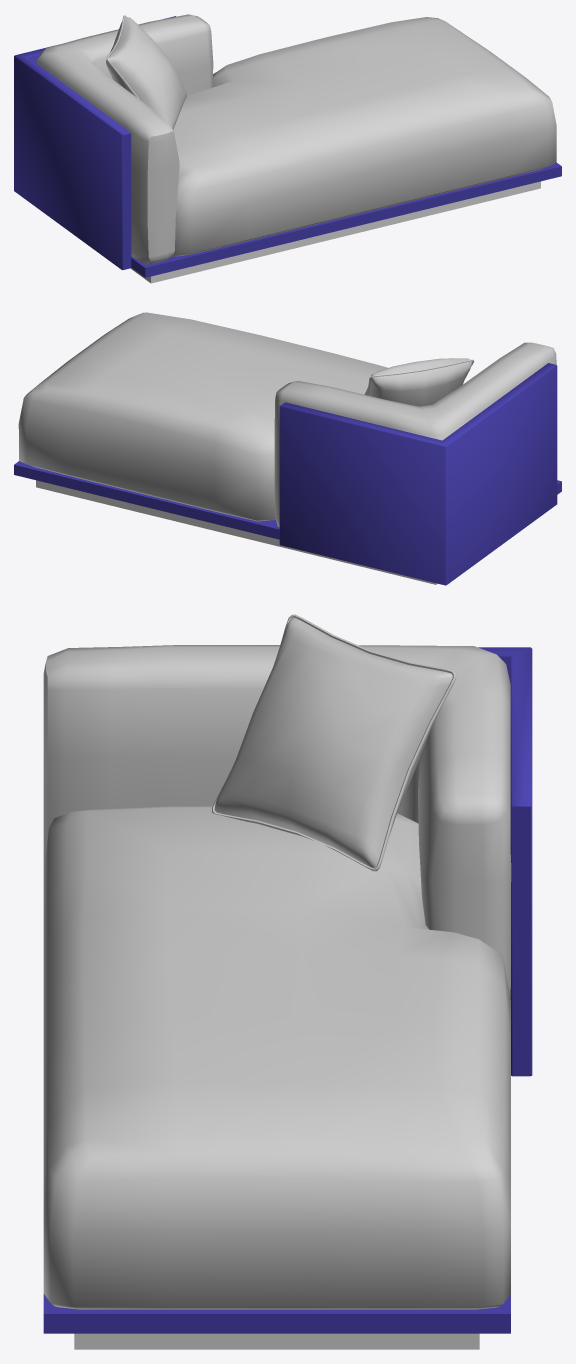
Rendered from MZCCL03R.FBX.
The picture shows the model from 3 angles, top to bottom: view 1: azimuth 30°, elevation 25°; view 2: azimuth 150°, elevation 25°; view 3: azimuth 270°, elevation 25°; orthographic projection. The views are drawn at different scales.
Visible parts, largest first — view 1: MZCCL03R; view 2: MZCCL03R; view 3: MZCCL03R.
Boxes of the visible parts, box(x1,y1,x2,y2) form: MZCCL03R: box(14, 14, 561, 283); MZCCL03R: box(14, 312, 561, 585); MZCCL03R: box(43, 614, 532, 1349).
Size of the model in its own units: 460 by 189 by 228.
